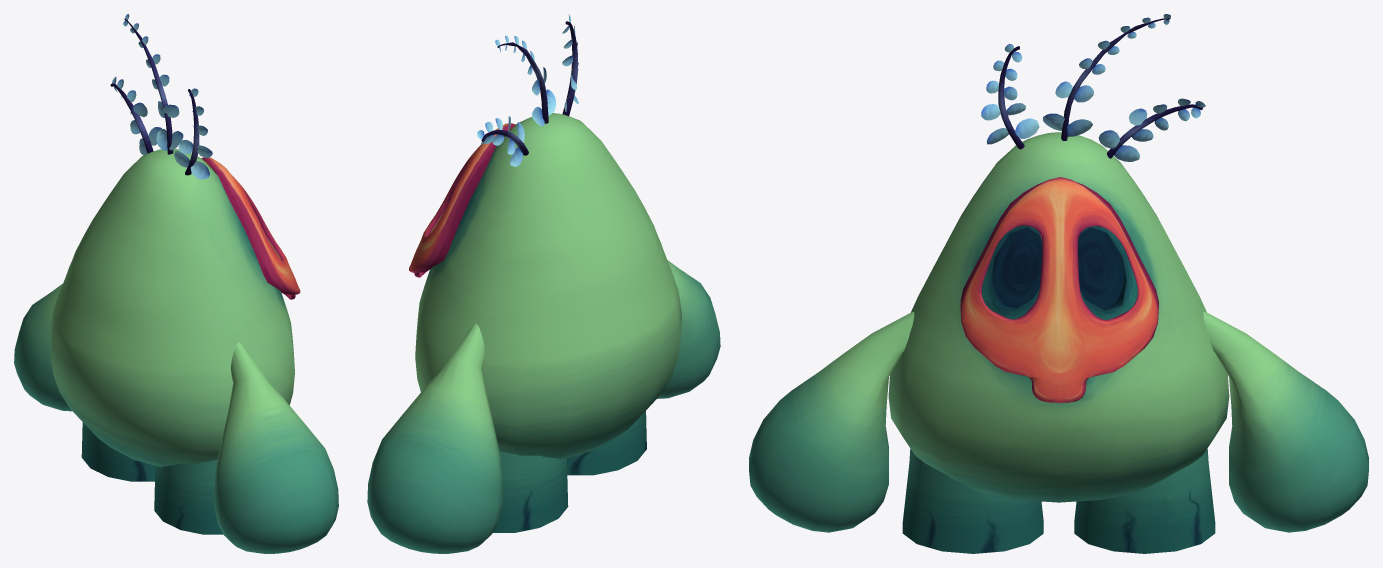
File: tree_sprite_skull_kid.glb
The picture shows the model from 3 angles, left to right: view 1: azimuth 30°, elevation 25°; view 2: azimuth 150°, elevation 25°; view 3: azimuth 270°, elevation 25°; orthographic projection. The views are drawn at different scales.
Visible parts, largest first — view 1: g; view 2: g; view 3: g.
Part boxes in pixels (<box>): g: <box>14,14,338,553</box>; g: <box>367,14,720,553</box>; g: <box>749,14,1368,553</box>.
Size of the model in its own units: 0.9684 by 1.83 by 2.
1 material, 1 textured.
